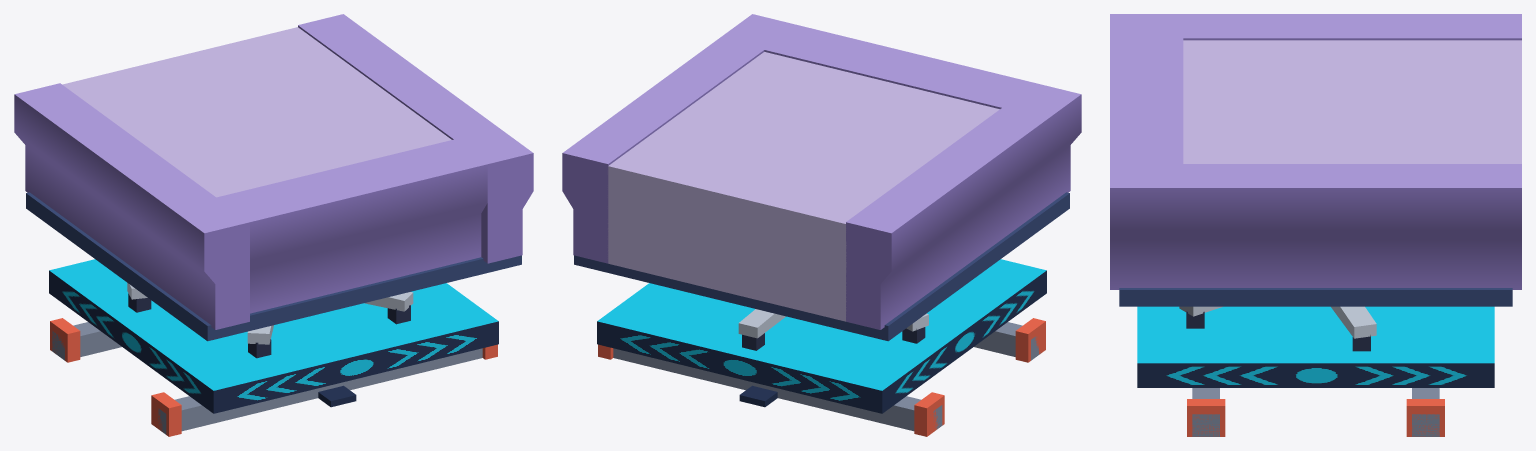
File: bureau_rail_chair_lod1.glb
3 renders of one model, left to right at view 1: azimuth 30°, elevation 25°; view 2: azimuth 150°, elevation 25°; view 3: azimuth 270°, elevation 25°, orthographic. The views are drawn at different scales.
Parts seen in each view (by area): view 1: bureau_rail_chair_LOD1; view 2: bureau_rail_chair_LOD1; view 3: bureau_rail_chair_LOD1.
Boxes of the visible parts, box(x1,y1,x2,y2) form: bureau_rail_chair_LOD1: box(14, 14, 533, 436); bureau_rail_chair_LOD1: box(562, 14, 1081, 436); bureau_rail_chair_LOD1: box(1110, 14, 1521, 436).
Size of the model in its own units: 9 by 6 by 9.
1 material, 1 textured.
